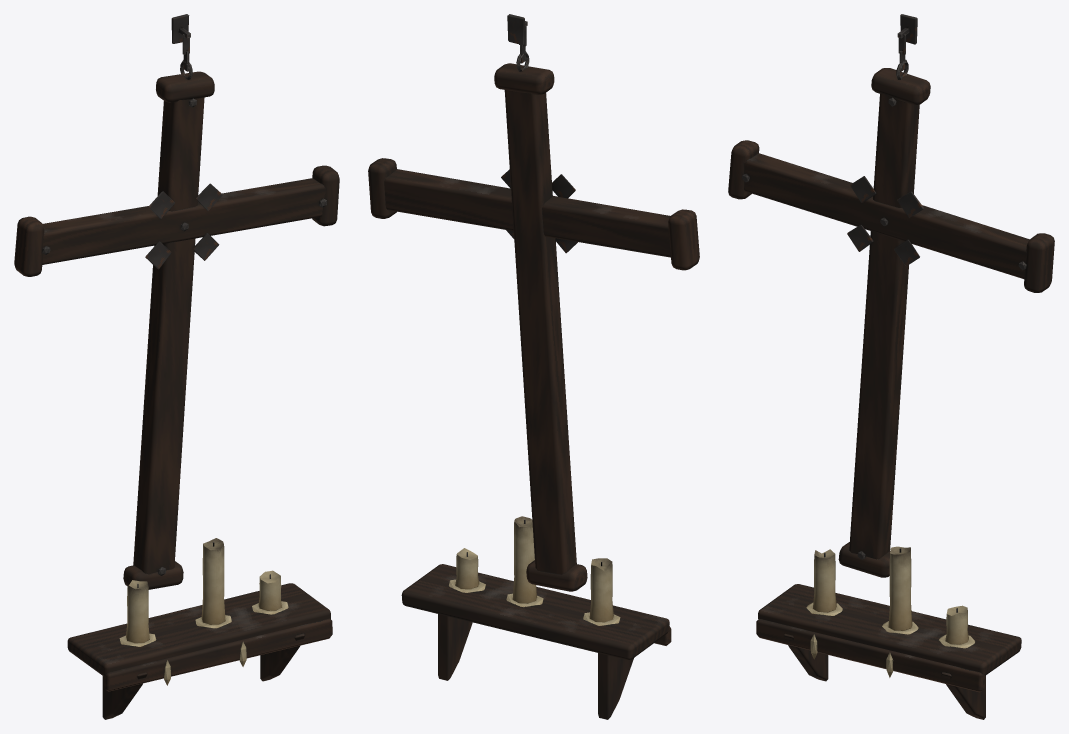
File: cross.glb
3 renders of one model, left to right at view 1: azimuth 30°, elevation 25°; view 2: azimuth 150°, elevation 25°; view 3: azimuth 330°, elevation 25°, orthographic.
Parts seen in each view (by area): view 1: WallCross; view 2: WallCross; view 3: WallCross.
Boxes of the visible parts, left/top/right/bottom form: WallCross: left=14, top=14, right=339, bottom=719; WallCross: left=368, top=14, right=699, bottom=719; WallCross: left=728, top=14, right=1054, bottom=719.
Bounding box in the file's own units: 1.01 × 2.06 × 0.2377.
Materials: 1 (1 with a texture image).
